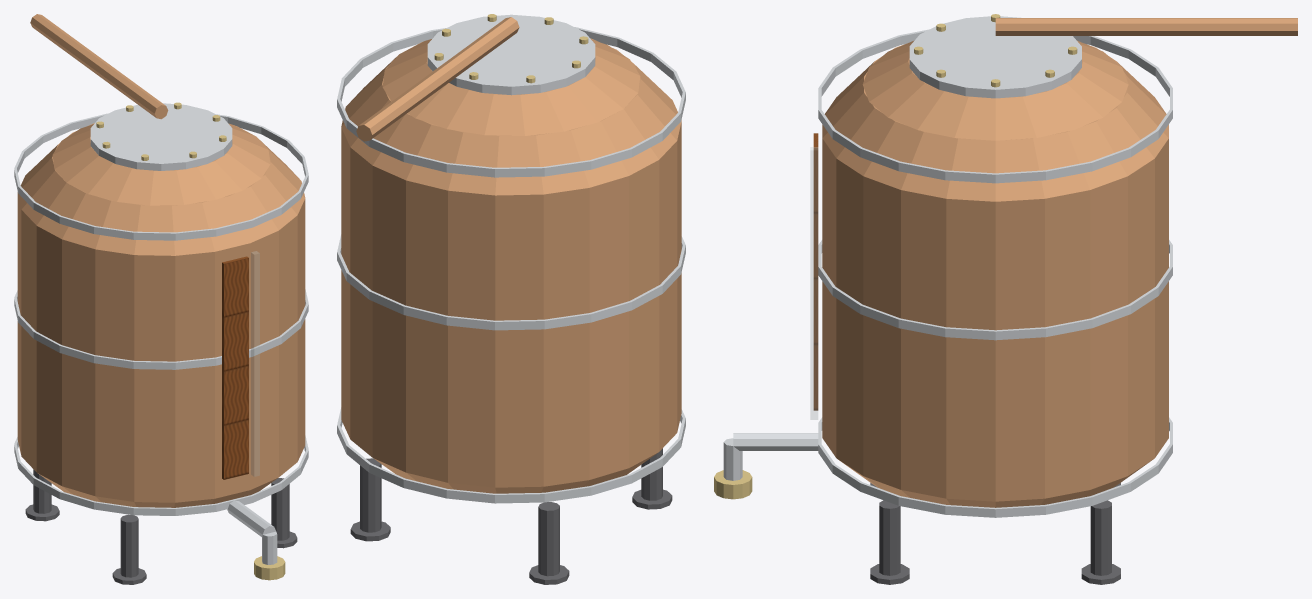
Rendered from distillery-and-bonded-warehouse-spirit-receiver-4afc945f__38666.glb.
The picture shows the model from 3 angles, left to right: view 1: azimuth 30°, elevation 25°; view 2: azimuth 150°, elevation 25°; view 3: azimuth 270°, elevation 25°; orthographic projection. The views are drawn at different scales.
Visible parts, largest first — view 1: spirit-receiver-copper, spirit-receiver-steel, spirit-receiver-timber, spirit-receiver-iron, spirit-receiver-glass, spirit-receiver-brass; view 2: spirit-receiver-copper, spirit-receiver-steel, spirit-receiver-iron, spirit-receiver-brass; view 3: spirit-receiver-copper, spirit-receiver-steel, spirit-receiver-iron, spirit-receiver-glass, spirit-receiver-timber, spirit-receiver-brass.
Boxes of the visible parts, <box> form: spirit-receiver-copper: <box>17,14,305,507</box>; spirit-receiver-steel: <box>14,103,308,564</box>; spirit-receiver-timber: <box>222,256,248,479</box>; spirit-receiver-iron: <box>25,469,297,584</box>; spirit-receiver-glass: <box>251,251,259,476</box>; spirit-receiver-brass: <box>96,102,285,580</box>; spirit-receiver-copper: <box>341,17,681,493</box>; spirit-receiver-steel: <box>337,14,685,503</box>; spirit-receiver-iron: <box>350,448,672,584</box>; spirit-receiver-brass: <box>434,14,588,83</box>; spirit-receiver-copper: <box>822,18,1297,507</box>; spirit-receiver-steel: <box>723,16,1172,517</box>; spirit-receiver-iron: <box>870,483,1120,584</box>; spirit-receiver-glass: <box>810,147,817,419</box>; spirit-receiver-timber: <box>813,133,818,410</box>; spirit-receiver-brass: <box>714,14,1077,499</box>.
Bounding box in the file's own units: 2.25 × 3.56 × 3.67.
6 materials, 1 textured.
